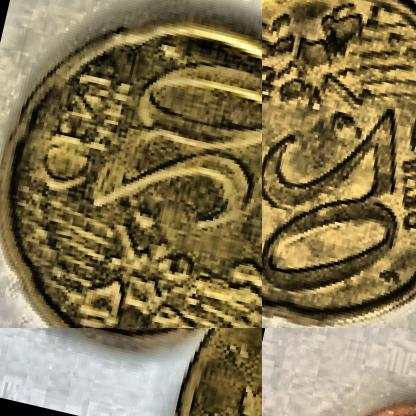coin: (0, 0, 261, 327), (262, 0, 415, 327), (0, 328, 261, 381), (270, 376, 415, 415)
